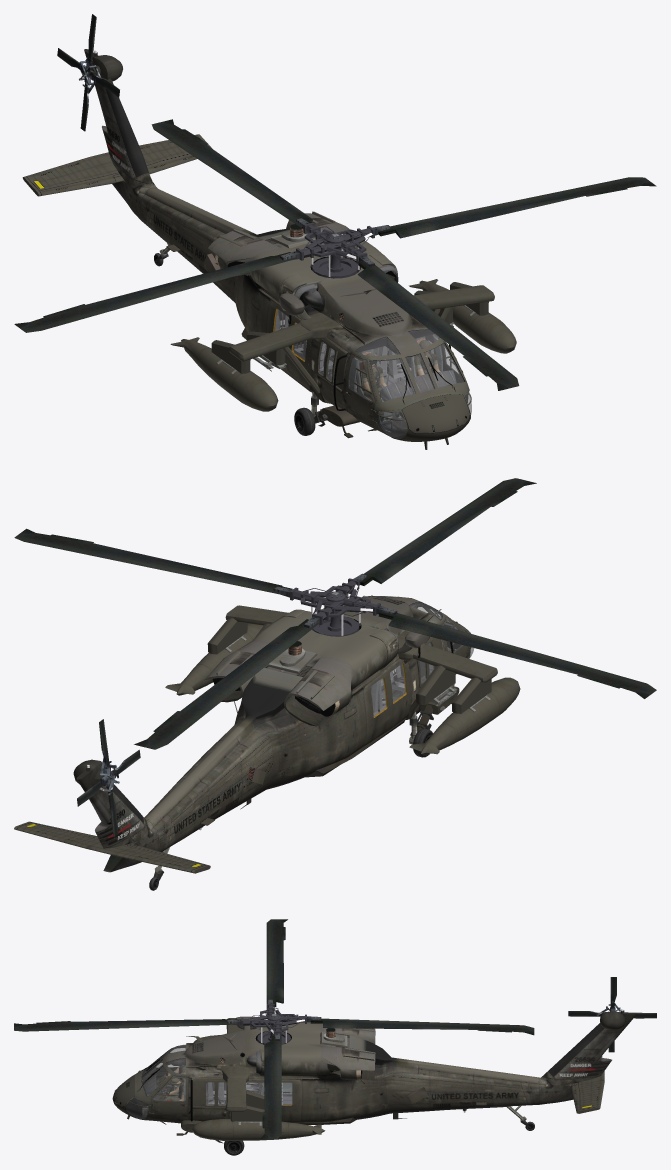
Rendered from sikorsky_uh-60m_blackhawk.glb.
The picture shows the model from 3 angles, top to bottom: view 1: azimuth 30°, elevation 25°; view 2: azimuth 150°, elevation 25°; view 3: azimuth 270°, elevation 25°; orthographic projection. The views are drawn at different scales.
Visible parts, largest first — view 1: Object_10, Object_6, Object_9, Object_2, Object_7, Object_8; view 2: Object_10, Object_6, Object_2, Object_9; view 3: Object_10, Object_6, Object_9, Object_2, Object_7.
Boxes of the visible parts, x1=… form: Object_10: x1=22, y1=49, x2=516, y2=449; Object_6: x1=14, y1=14, x2=656, y2=416; Object_9: x1=274, y1=309, x2=471, y2=438; Object_2: x1=280, y1=218, x2=440, y2=421; Object_7: x1=319, y1=329, x2=468, y2=439; Object_8: x1=322, y1=330, x2=439, y2=418; Object_10: x1=14, y1=593, x2=520, y2=890; Object_6: x1=14, y1=478, x2=656, y2=836; Object_2: x1=273, y1=573, x2=453, y2=652; Object_9: x1=370, y1=607, x2=474, y2=716; Object_10: x1=112, y1=1010, x2=637, y2=1155; Object_6: x1=14, y1=919, x2=656, y2=1139; Object_9: x1=125, y1=1048, x2=291, y2=1119; Object_2: x1=156, y1=999, x2=321, y2=1101; Object_7: x1=126, y1=1045, x2=292, y2=1119.
Bounding box in the file's own units: 2.02 × 0.6641 × 2.5.
Materials: 10 (9 with a texture image).
